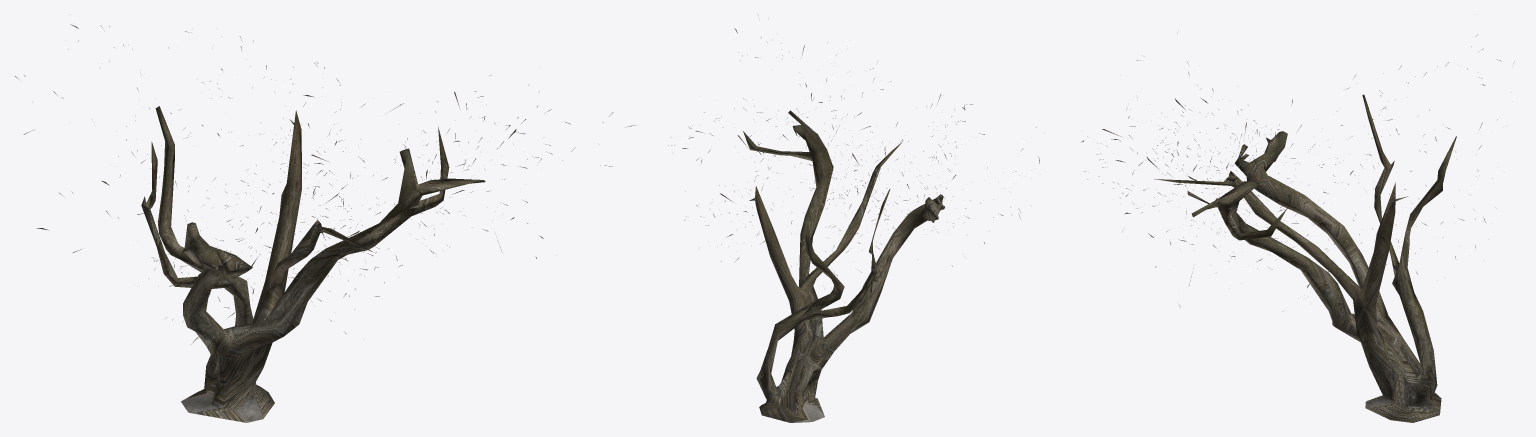
The model's file is island_tree_02_wood.glb.
3 views of the same model, side by side, from view 1: azimuth 30°, elevation 25°; view 2: azimuth 150°, elevation 25°; view 3: azimuth 270°, elevation 25° (orthographic). The views are drawn at different scales.
Parts seen in each view (by area): view 1: island_tree_02_LOD0; view 2: island_tree_02_LOD0; view 3: island_tree_02_LOD0.
Part boxes in pixels (x1=…): island_tree_02_LOD0: x1=15, y1=24, x2=635, y2=422; island_tree_02_LOD0: x1=668, y1=14, x2=1039, y2=422; island_tree_02_LOD0: x1=1081, y1=34, x2=1514, y2=422.
Size of the model in its own units: 4.21 by 3.33 by 3.92.
Materials: 2 (2 with a texture image).
